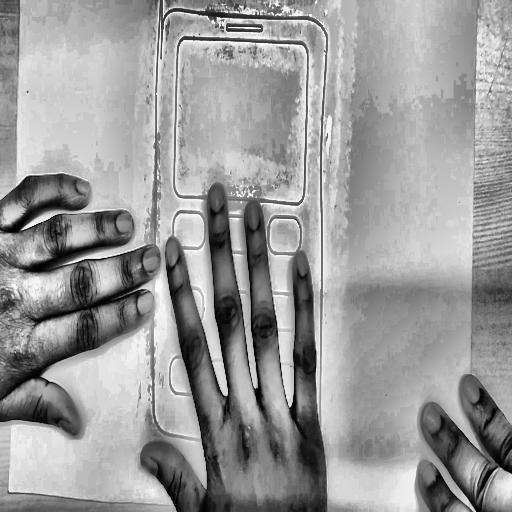bottom_left: (6, 485, 12, 497)
mobile: (144, 0, 335, 456)
